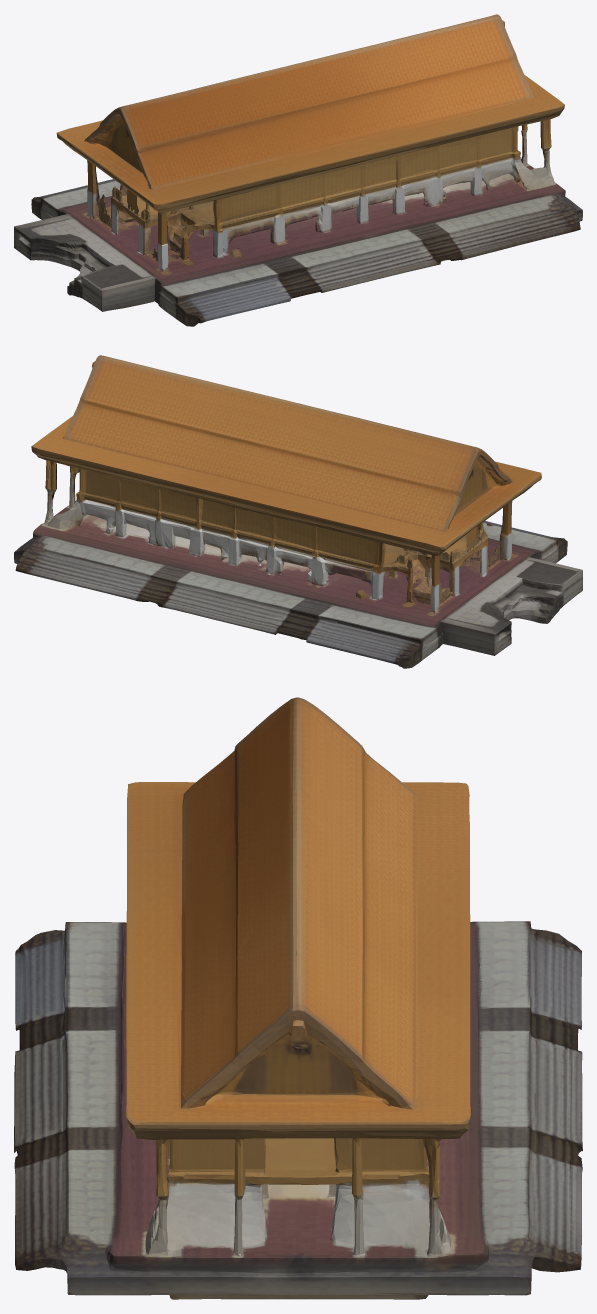
The model's file is gorontalo.glb.
3 views of the same model, one above another, from view 1: azimuth 30°, elevation 25°; view 2: azimuth 150°, elevation 25°; view 3: azimuth 270°, elevation 25° (orthographic). The views are drawn at different scales.
Parts seen in each view (by area): view 1: world; view 2: world; view 3: world.
Part boxes in pixels (x1,y1,x2,y2): world: (14,14,582,326); world: (14,355,582,668); world: (14,697,582,1299).
Size of the model in its own units: 0.7006 by 0.2464 by 0.4441.
Materials: 1 (1 with a texture image).
